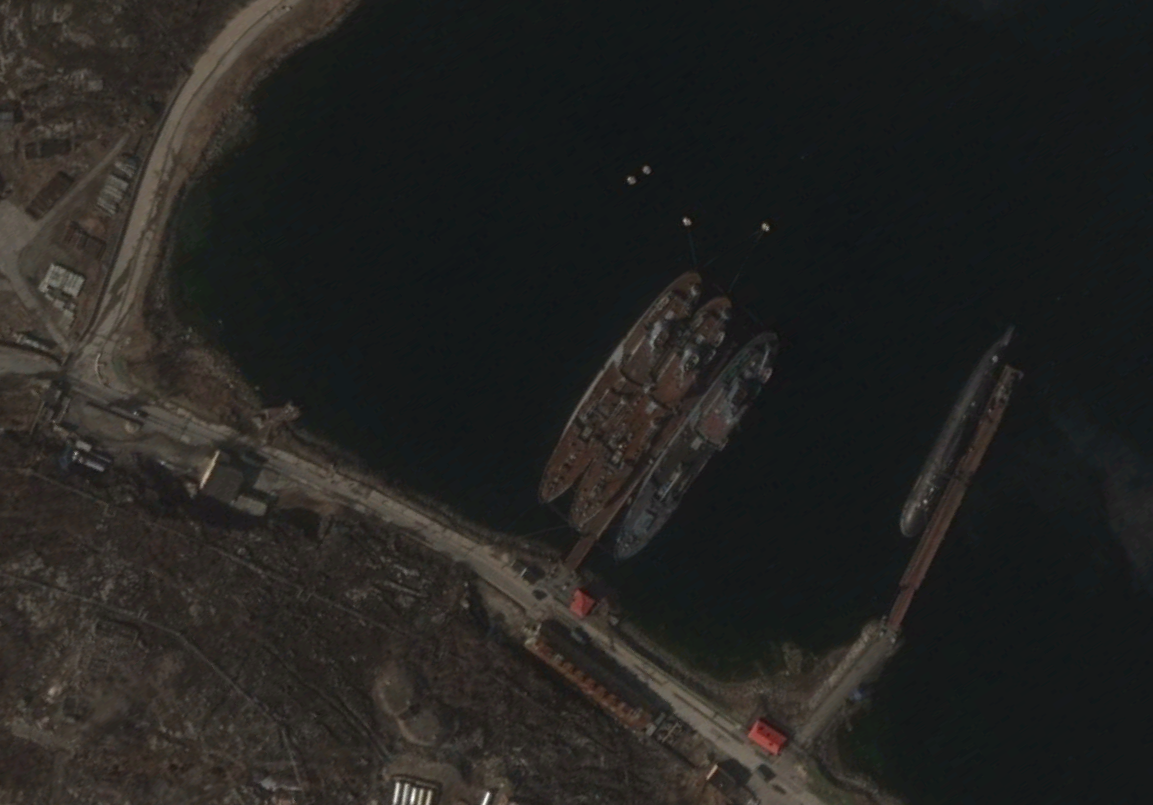merchant ship: (565, 295, 733, 534), (536, 271, 704, 504), (609, 334, 779, 564)
submarine: (896, 328, 1012, 537)
